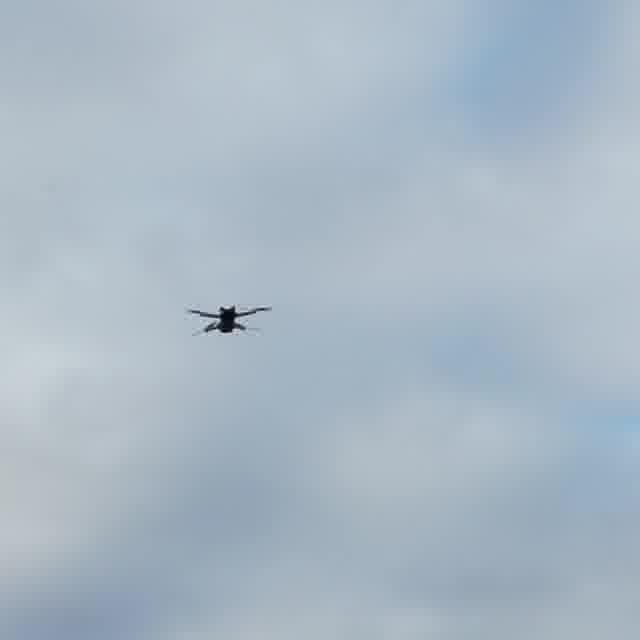Drohne: (187, 305, 271, 335)
